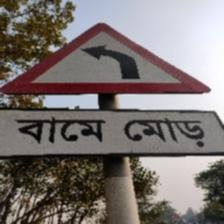Animal: (0, 13, 224, 159)
